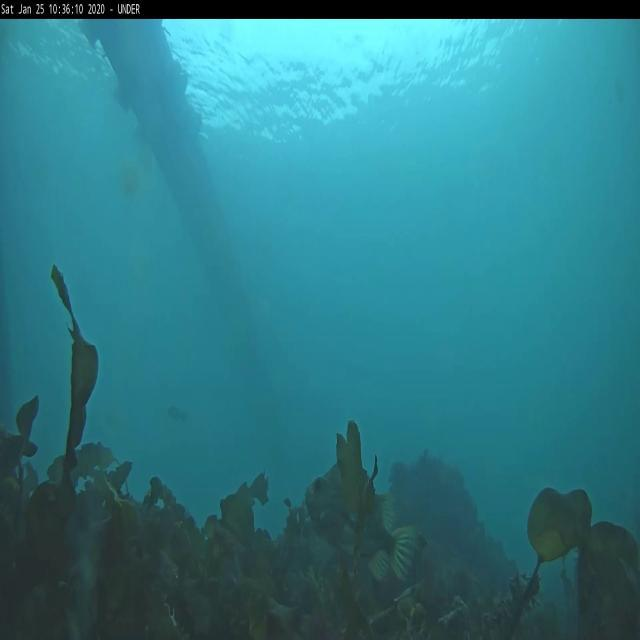fish: (167, 404, 189, 427)
